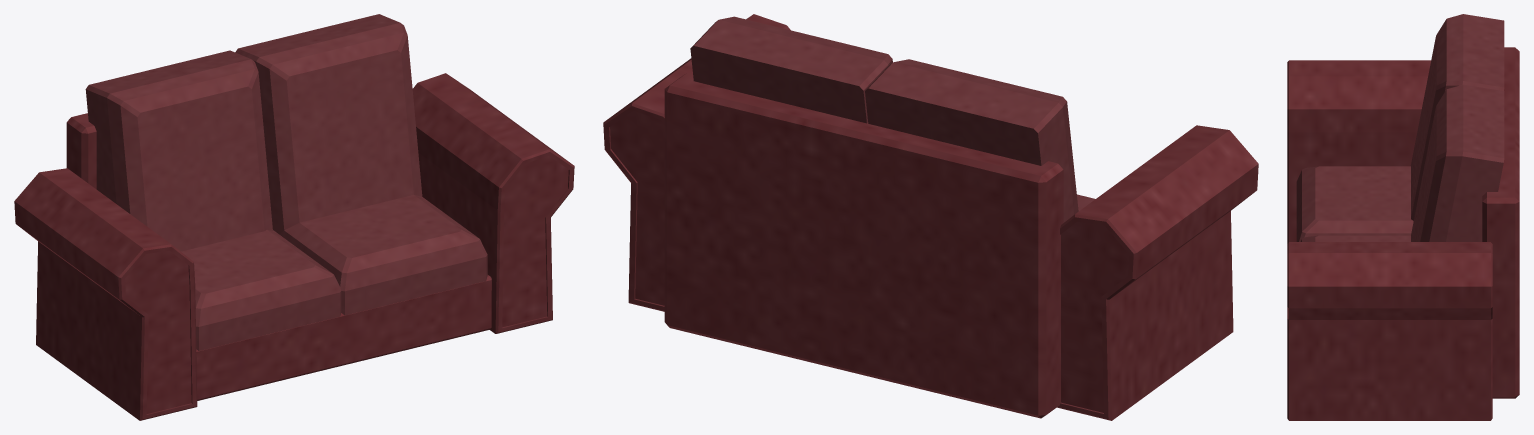
Rendered from sofa.fbx.
3 renders of one model, left to right at view 1: azimuth 30°, elevation 25°; view 2: azimuth 150°, elevation 25°; view 3: azimuth 270°, elevation 25°, orthographic. The views are drawn at different scales.
Parts seen in each view (by area): view 1: Pad3TwoSeaterCouch1, TwoSeaterCouch1; view 2: TwoSeaterCouch1, Pad3TwoSeaterCouch1; view 3: TwoSeaterCouch1, Pad3TwoSeaterCouch1.
Part boxes in pixels (bbox=[...]): Pad3TwoSeaterCouch1: bbox=[85, 14, 487, 350]; TwoSeaterCouch1: bbox=[14, 73, 574, 420]; TwoSeaterCouch1: bbox=[603, 14, 1258, 420]; Pad3TwoSeaterCouch1: bbox=[690, 16, 1095, 222]; TwoSeaterCouch1: bbox=[1287, 47, 1519, 420]; Pad3TwoSeaterCouch1: bbox=[1296, 14, 1504, 241].
Size of the model in its own units: 244 by 126 by 111.
